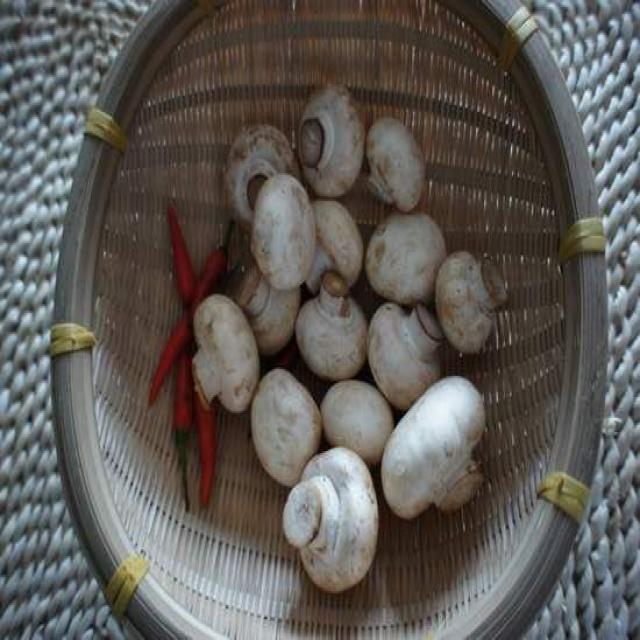Agaricus bisporus: (203, 93, 501, 587)
